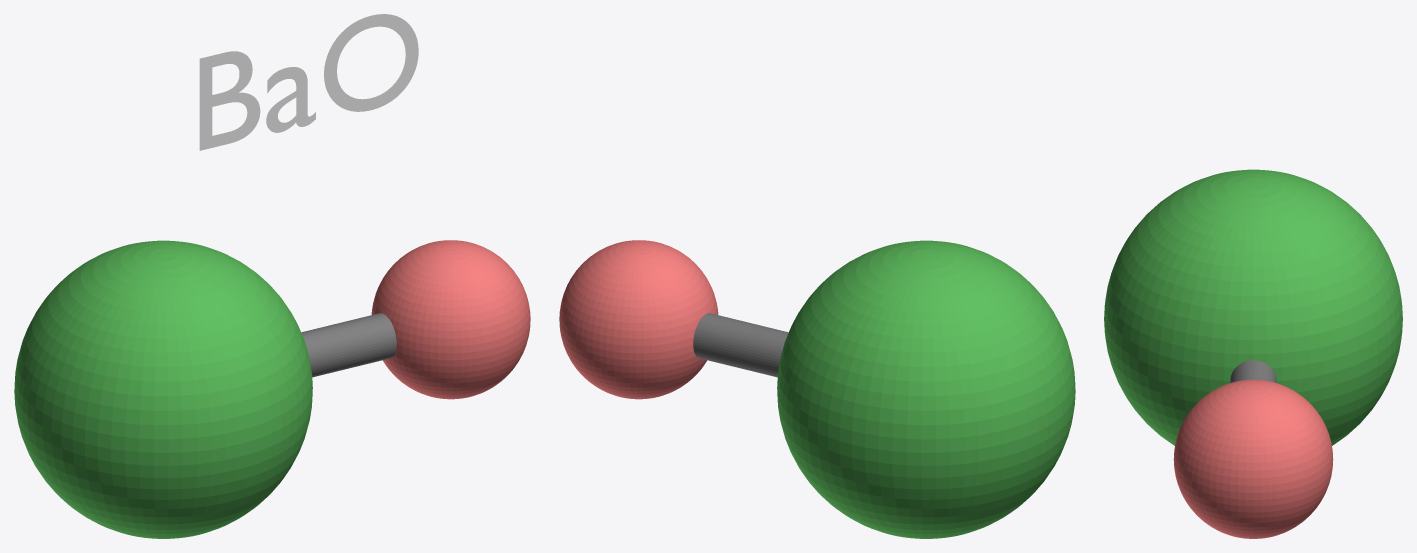
The model's file is BaO.glb.
3 renders of one model, left to right at view 1: azimuth 30°, elevation 25°; view 2: azimuth 150°, elevation 25°; view 3: azimuth 270°, elevation 25°, orthographic.
Visible parts, largest first — view 1: Ba, O, Label, Bond; view 2: Ba, O, Bond; view 3: Ba, O, Bond.
Boxes of the visible parts, bbox=[...] form: Ba: bbox=[14, 240, 312, 538]; O: bbox=[371, 240, 530, 399]; Label: bbox=[199, 14, 418, 150]; Bond: bbox=[301, 313, 396, 377]; Ba: bbox=[777, 240, 1075, 538]; O: bbox=[559, 240, 718, 399]; Bond: bbox=[693, 313, 788, 377]; Ba: bbox=[1104, 169, 1402, 445]; O: bbox=[1173, 379, 1333, 538]; Bond: bbox=[1230, 360, 1276, 382].
Size of the model in its own units: 1.69 by 1.53 by 0.9.
